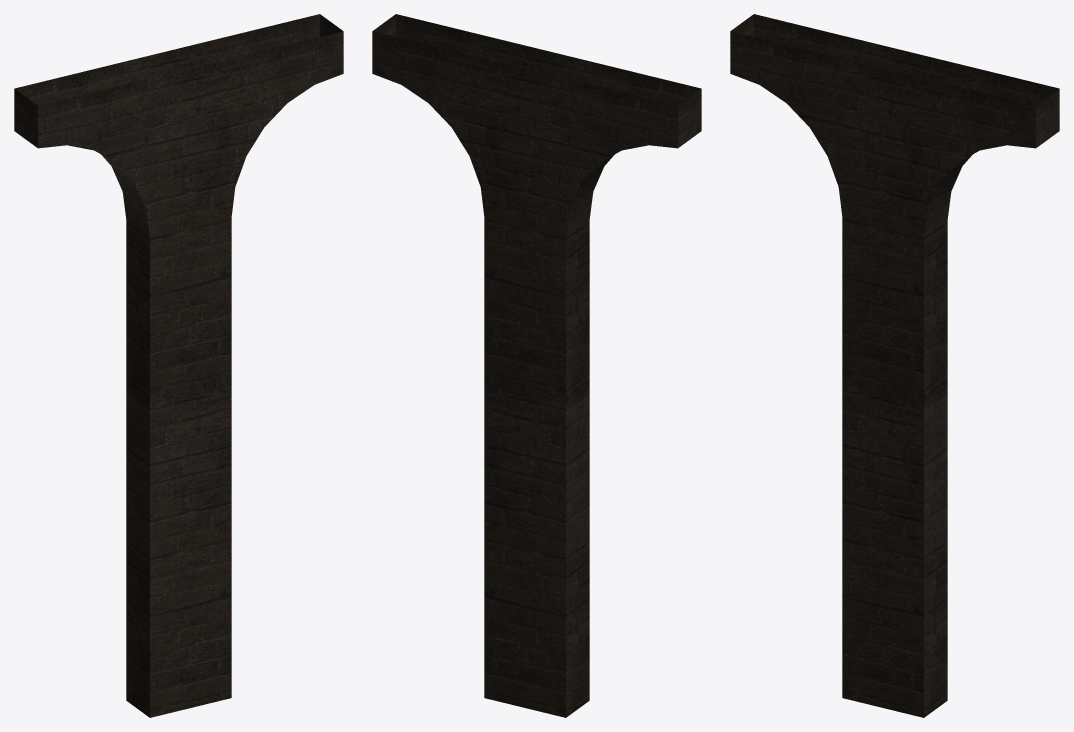
Rendered from half_arc_pillar_2_tall_wall_1_plain.obj.
The picture shows the model from 3 angles, left to right: view 1: azimuth 30°, elevation 25°; view 2: azimuth 150°, elevation 25°; view 3: azimuth 330°, elevation 25°; orthographic projection.
Parts seen in each view (by area): view 1: half_arc_pillar_2_tall_wall_1_plain; view 2: half_arc_pillar_2_tall_wall_1_plain; view 3: half_arc_pillar_2_tall_wall_1_plain.
Boxes of the visible parts, x1=… form: half_arc_pillar_2_tall_wall_1_plain: x1=14, y1=14, x2=343, y2=717; half_arc_pillar_2_tall_wall_1_plain: x1=372, y1=14, x2=701, y2=717; half_arc_pillar_2_tall_wall_1_plain: x1=730, y1=14, x2=1059, y2=717.
Size of the model in its own units: 3 by 6 by 0.4.
